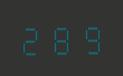eight: (47, 20, 74, 55)
nine: (75, 19, 102, 55)
two: (18, 20, 45, 56)
